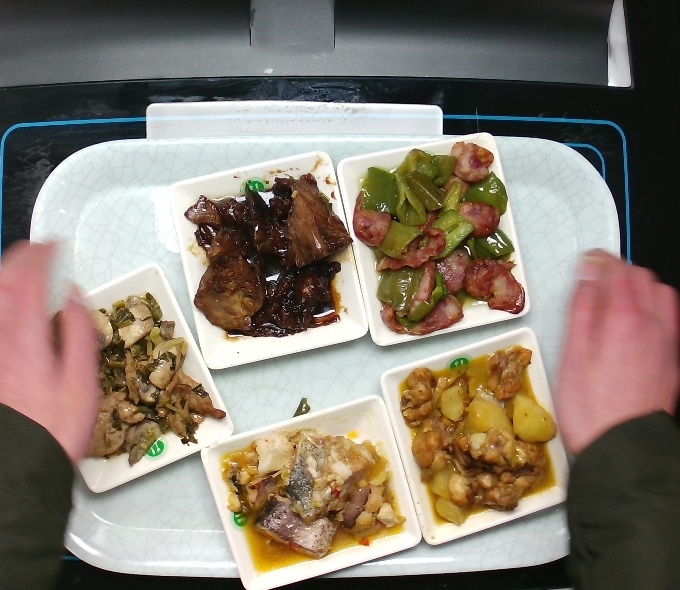wcq-JiangZhiYa: (181, 172, 353, 337)
wcq-QingJiaoXiangChang: (352, 141, 526, 339)
wcq-SuanCaiYu: (224, 428, 408, 575)
wcq-TuDouJiKuai: (399, 344, 559, 526)
